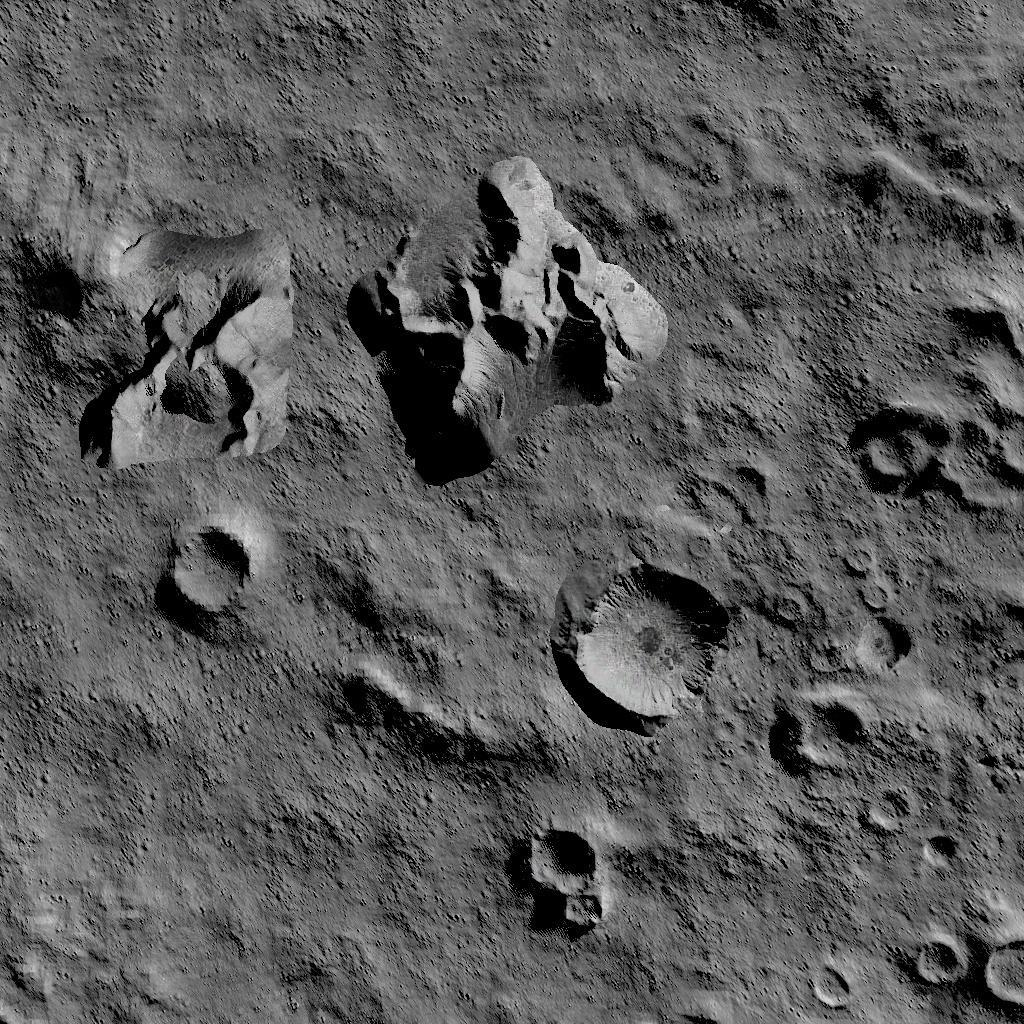Boulders: (342, 153, 672, 489), (21, 200, 296, 466)
Crater: (556, 559, 728, 734), (841, 399, 1024, 513), (498, 816, 608, 948), (898, 929, 1024, 1024), (157, 516, 256, 626), (770, 686, 874, 778), (836, 540, 902, 610), (854, 616, 916, 678), (801, 954, 856, 1013), (859, 790, 916, 833), (921, 838, 964, 872)
Plan surface: (0, 640, 354, 1024), (341, 4, 824, 142), (3, 0, 331, 186), (363, 764, 488, 1024), (3, 476, 149, 630)
